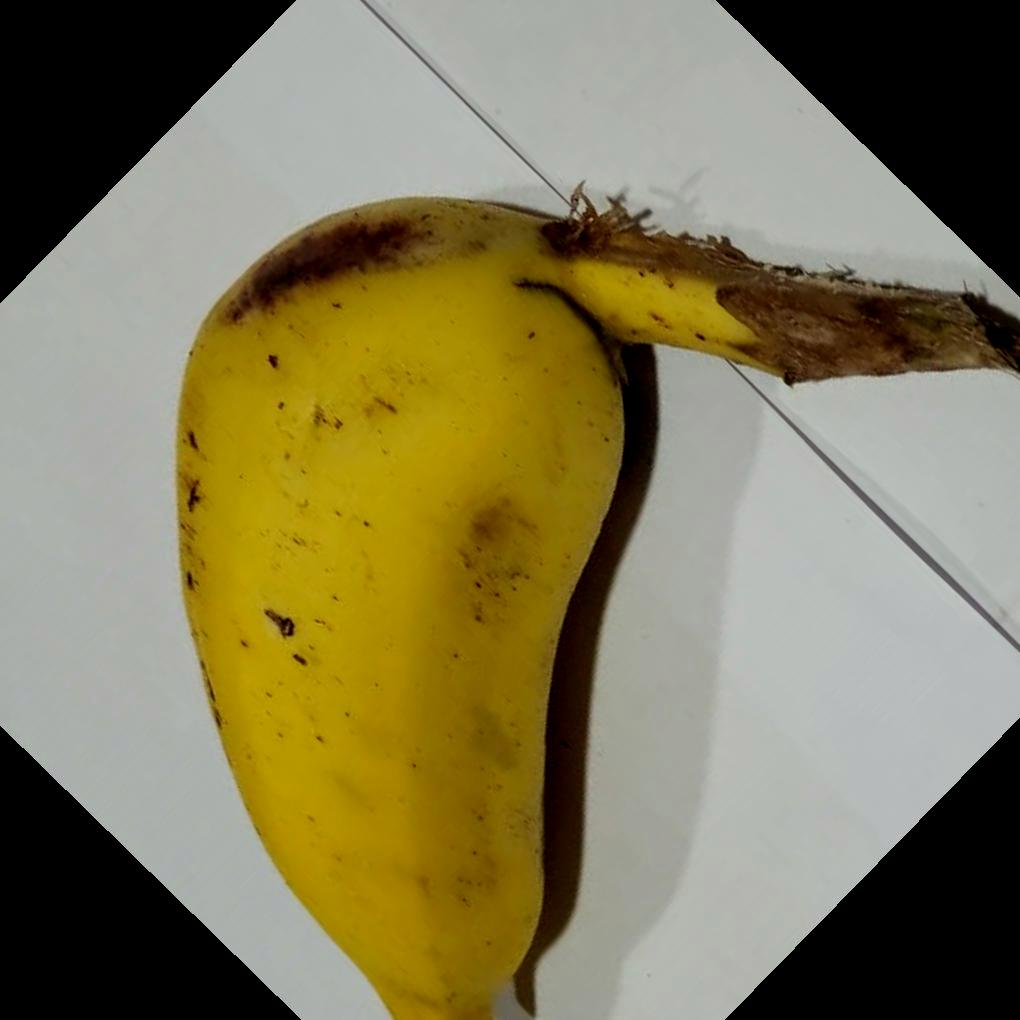Banana Ripe: (174, 137, 724, 1020)
